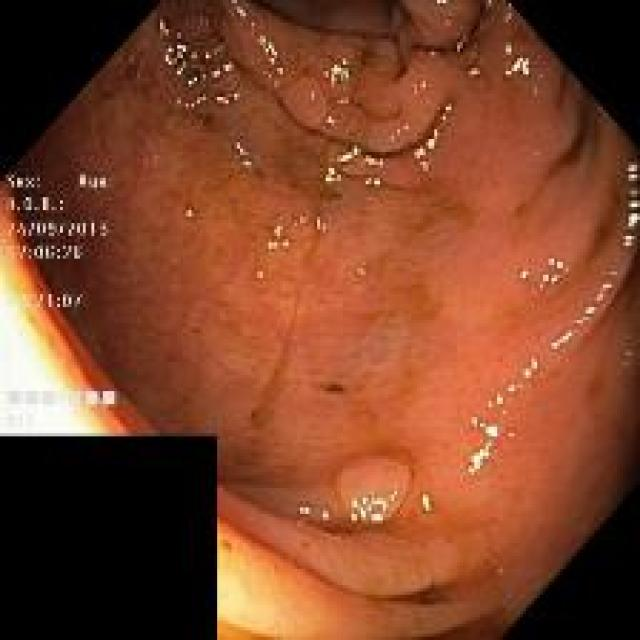Polyps: (335, 457, 411, 524), (282, 78, 328, 129)
